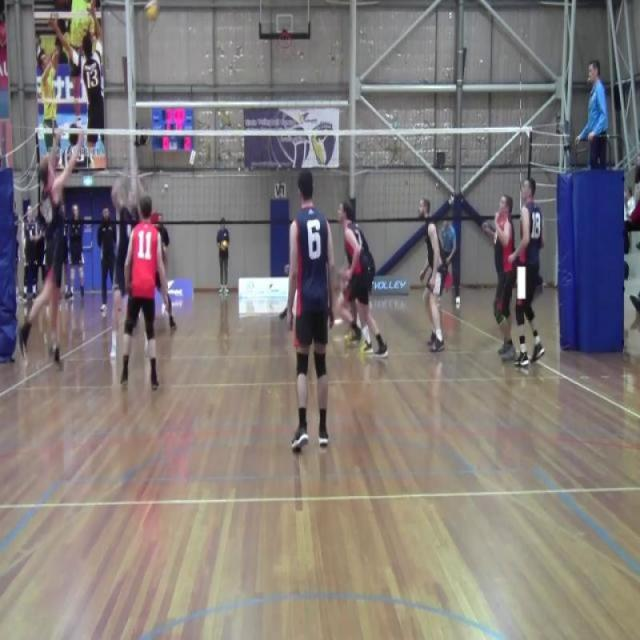volleyball: (142, 1, 162, 24), (219, 238, 229, 253)
